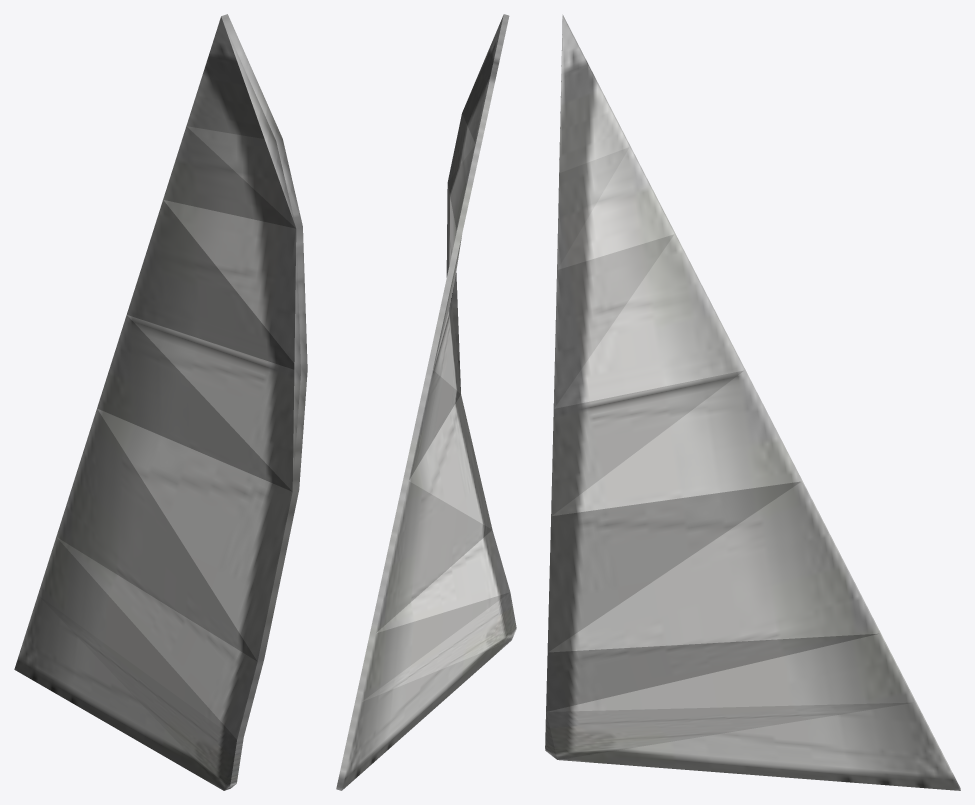
The model's file is boat2_3dex_sailGenoa_onPower.obj.
3 views of the same model, side by side, from view 1: azimuth 30°, elevation 25°; view 2: azimuth 150°, elevation 25°; view 3: azimuth 270°, elevation 25° (orthographic). The views are drawn at different scales.
Visible parts, largest first — view 1: sailGenoa_onPower_Plane.004; view 2: sailGenoa_onPower_Plane.004; view 3: sailGenoa_onPower_Plane.004.
Part boxes in pixels (left/top/right/bottom): sailGenoa_onPower_Plane.004: left=14, top=14, right=307, bottom=790; sailGenoa_onPower_Plane.004: left=336, top=14, right=516, bottom=790; sailGenoa_onPower_Plane.004: left=545, top=14, right=960, bottom=790.
Size of the model in its own units: 1.21 by 11.37 by 5.53.
